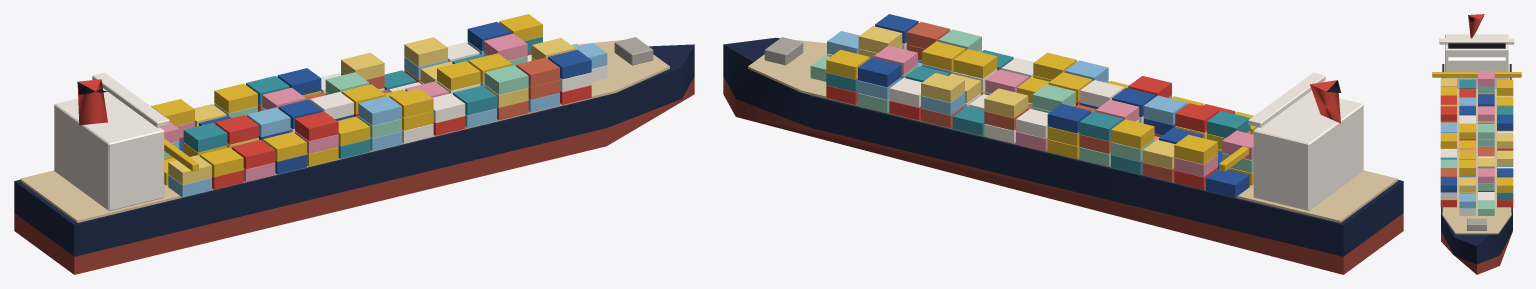
Rendered from cargo_ship.glb.
The picture shows the model from 3 angles, left to right: view 1: azimuth 30°, elevation 25°; view 2: azimuth 150°, elevation 25°; view 3: azimuth 270°, elevation 25°; orthographic projection. The views are drawn at different scales.
Parts seen in each view (by area): view 1: cargo_ship; view 2: cargo_ship; view 3: cargo_ship.
Part boxes in pixels (x1,y1,x2,y2): cargo_ship: (14,14,694,274); cargo_ship: (723,14,1403,274); cargo_ship: (1432,14,1521,274).
Size of the model in its own units: 300 by 69 by 62.
Materials: 1 (1 with a texture image).
